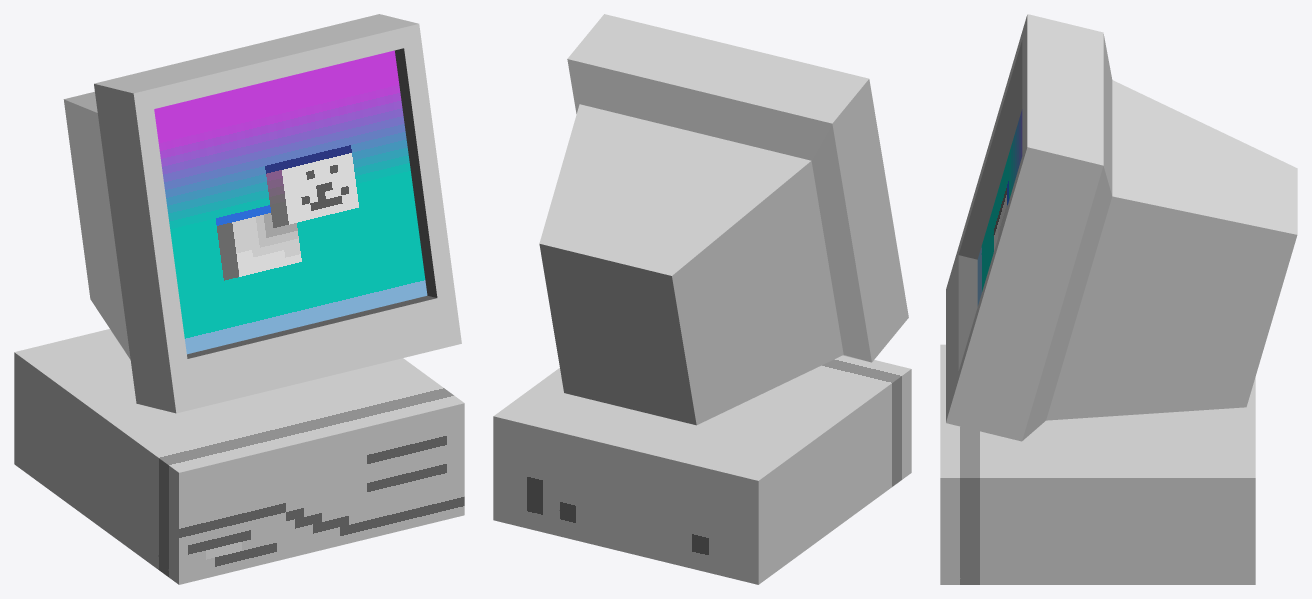
Rendered from vaporPC.gltf.
The picture shows the model from 3 angles, left to right: view 1: azimuth 30°, elevation 25°; view 2: azimuth 150°, elevation 25°; view 3: azimuth 270°, elevation 25°; orthographic projection. The views are drawn at different scales.
Parts seen in each view (by area): view 1: cube (×2); view 2: cube (×2); view 3: cube (×2).
Boxes of the visible parts, box(x1,y1,x2,y2) form: cube (×2): box(14, 14, 464, 584); cube (×2): box(493, 14, 911, 584); cube (×2): box(940, 14, 1297, 584).
Size of the model in its own units: 1 by 1.53 by 1.13.
2 materials, 2 textured.
